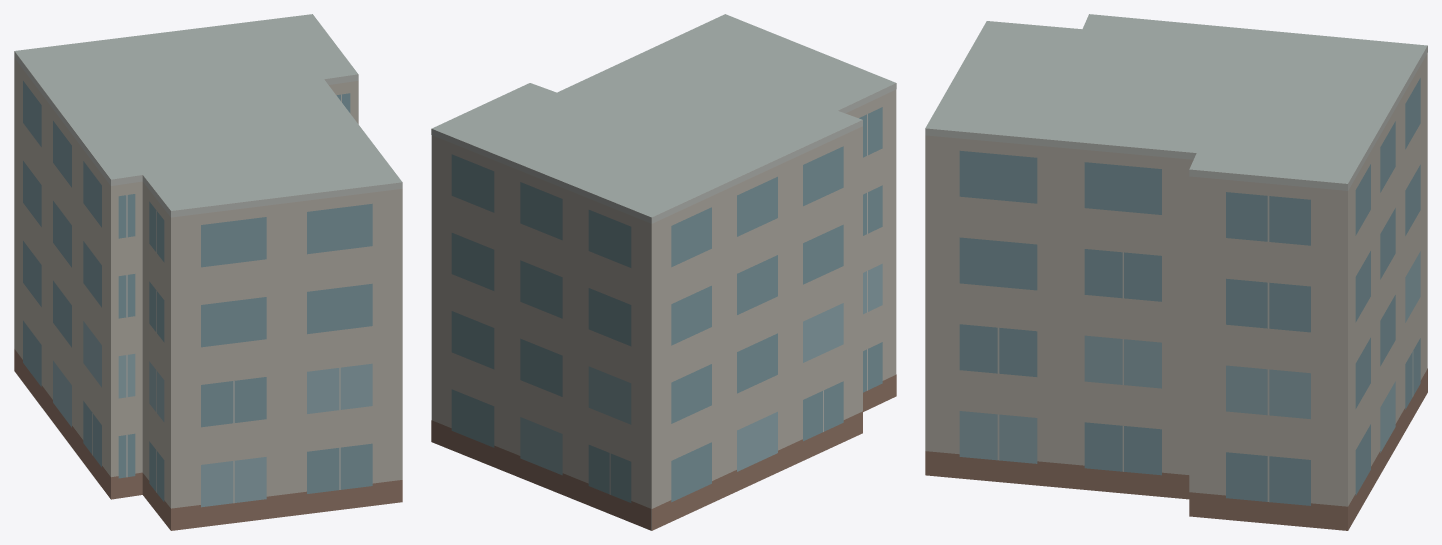
The model's file is survey-upis-32864862.glb.
The picture shows the model from 3 angles, left to right: view 1: azimuth 30°, elevation 25°; view 2: azimuth 150°, elevation 25°; view 3: azimuth 270°, elevation 25°; orthographic projection. The views are drawn at different scales.
Parts seen in each view (by area): view 1: survey-upis-32864862.tmp; view 2: survey-upis-32864862.tmp; view 3: survey-upis-32864862.tmp.
Part boxes in pixels (left/top/right/bottom): survey-upis-32864862.tmp: left=14, top=14, right=402, bottom=530; survey-upis-32864862.tmp: left=431, top=14, right=896, bottom=530; survey-upis-32864862.tmp: left=925, top=14, right=1427, bottom=530.
Bounding box in the file's own units: 12.67 × 12.05 × 15.83.
